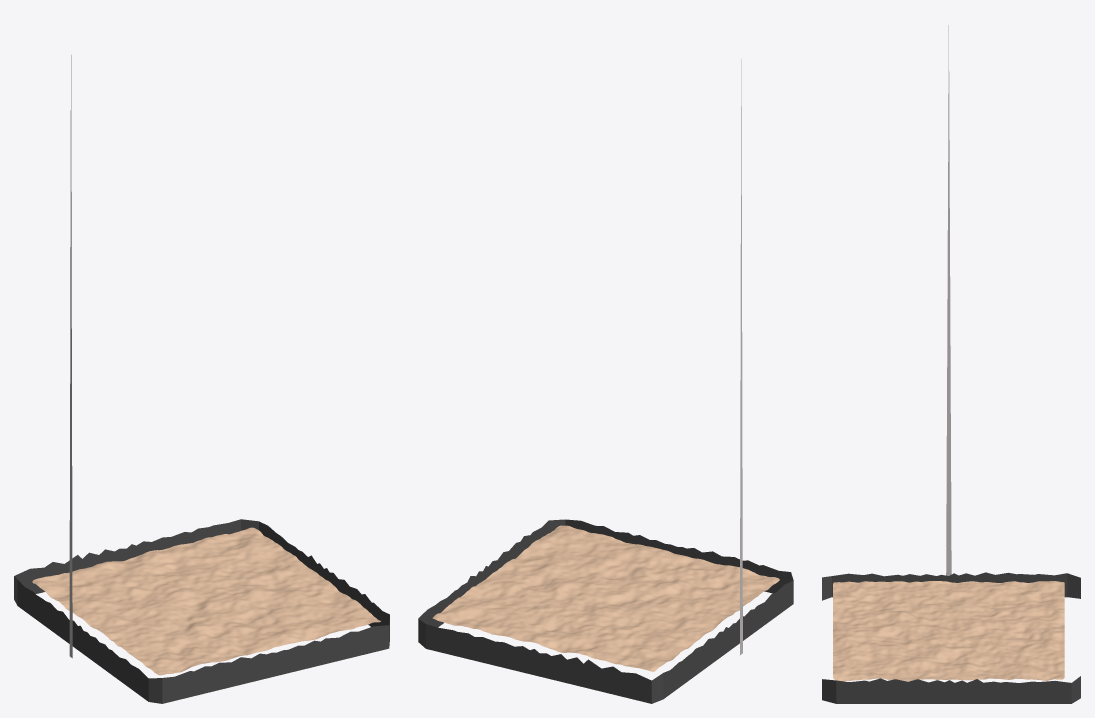
File: desert_map.glb
3 views of the same model, side by side, from view 1: azimuth 30°, elevation 25°; view 2: azimuth 150°, elevation 25°; view 3: azimuth 270°, elevation 25° (orthographic). The views are drawn at different scales.
Visible parts, largest first — view 1: MAP.BORDER, MAP.background; view 2: MAP.BORDER, MAP.background; view 3: MAP.BORDER, MAP.background.
Boxes of the visible parts, x1,y1,x2,y2 form: MAP.BORDER: (32, 527, 380, 675); MAP.background: (14, 55, 389, 703); MAP.BORDER: (432, 525, 779, 671); MAP.background: (418, 59, 793, 703); MAP.BORDER: (833, 581, 1064, 681); MAP.background: (822, 25, 1080, 703).
Size of the model in its own units: 2293 by 5501 by 2233.
